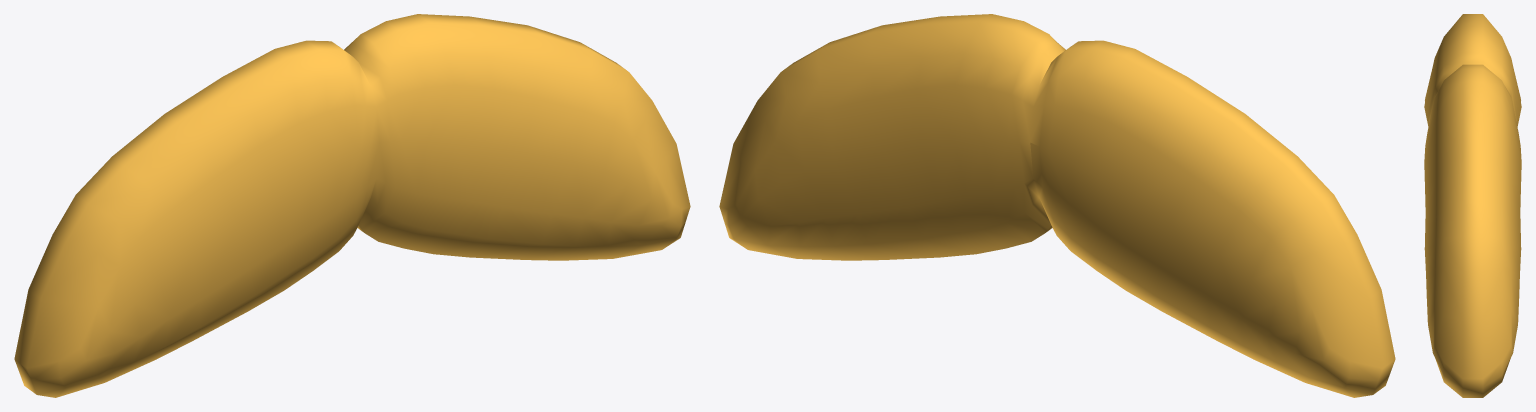
The model's file is Beard_01_05.fbx.
3 renders of one model, left to right at view 1: azimuth 30°, elevation 25°; view 2: azimuth 150°, elevation 25°; view 3: azimuth 270°, elevation 25°, orthographic. The views are drawn at different scales.
Visible parts, largest first — view 1: Beard_01_05; view 2: Beard_01_05; view 3: Beard_01_05.
Part boxes in pixels (bbox=[...]): Beard_01_05: bbox=[14, 14, 690, 397]; Beard_01_05: bbox=[719, 14, 1395, 397]; Beard_01_05: bbox=[1424, 14, 1521, 397].
Size of the model in its own units: 15.94 by 6.52 by 2.55.
